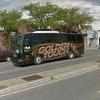Bus: (9, 26, 88, 68)
